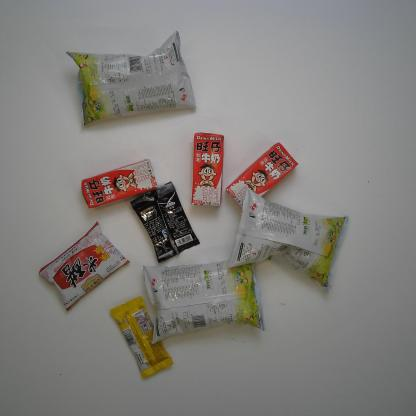Chocolate: (107, 293, 175, 383)
Instant Drink: (128, 179, 203, 266)
Milk: (224, 138, 298, 213), (76, 154, 160, 210), (189, 130, 226, 210)
Puffed Food: (63, 27, 197, 131), (226, 186, 350, 293), (137, 255, 270, 346)
Seasoner: (37, 218, 132, 316)
